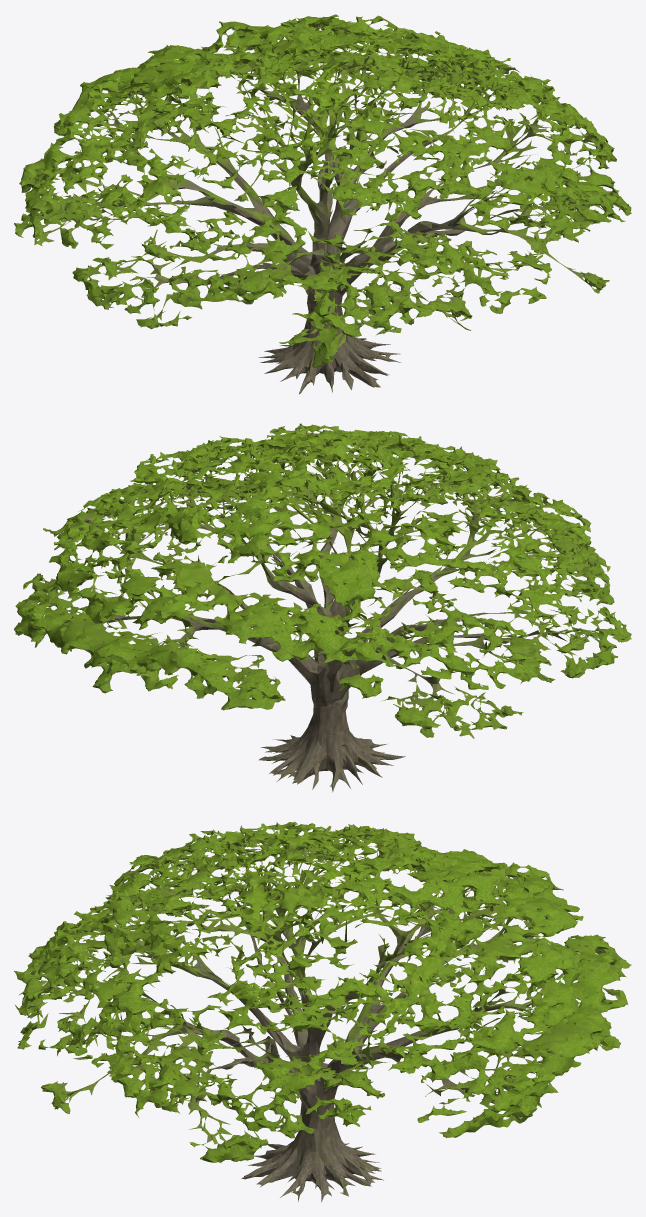
File: remeshed-raintree120.glb
The picture shows the model from 3 angles, top to bottom: view 1: azimuth 30°, elevation 25°; view 2: azimuth 150°, elevation 25°; view 3: azimuth 270°, elevation 25°; orthographic projection. The views are drawn at different scales.
Visible parts, largest first — view 1: output_unwrapped; view 2: output_unwrapped; view 3: output_unwrapped.
Part boxes in pixels (box(x1,y1,x2,y2)): output_unwrapped: box(14, 14, 631, 394); output_unwrapped: box(14, 423, 631, 792); output_unwrapped: box(14, 821, 631, 1202).
Bounding box in the file's own units: 1.86 × 1.06 × 1.85.
1 material, 1 textured.
